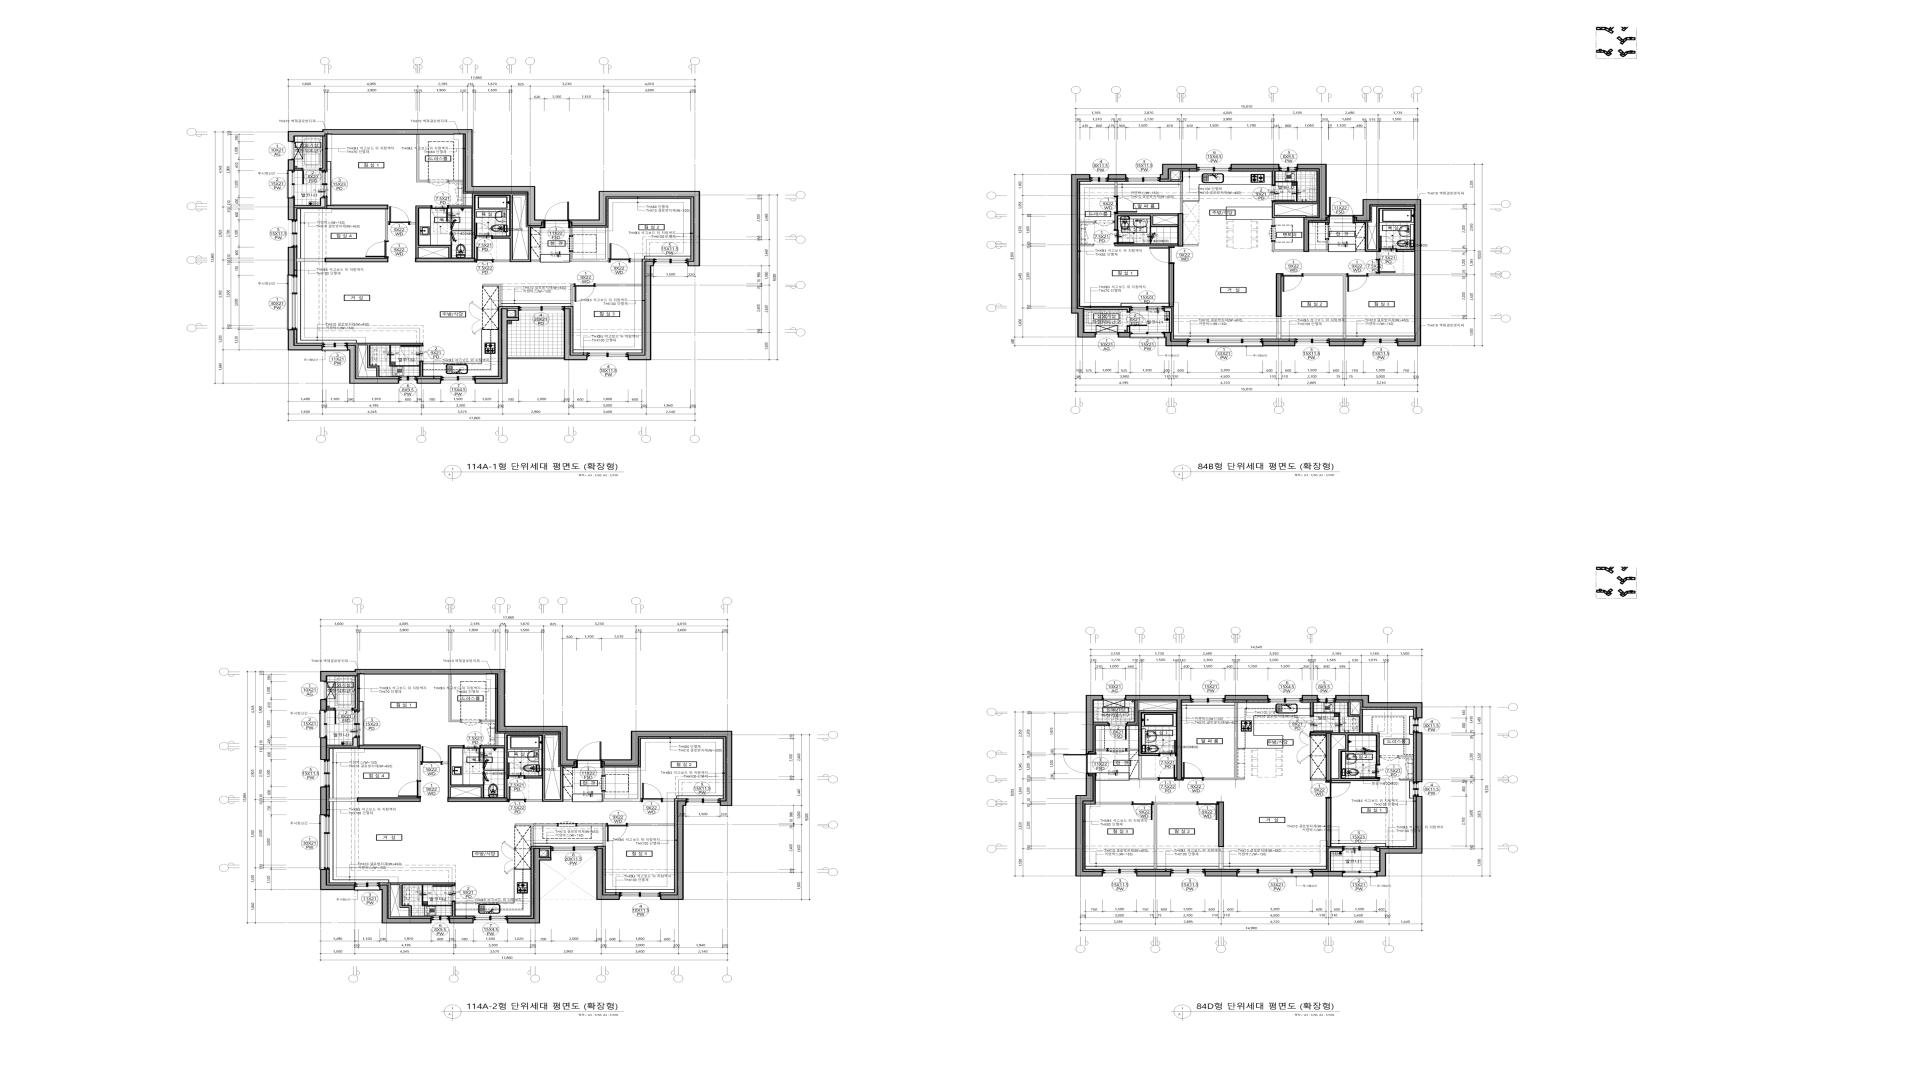door: (1063, 754, 1097, 774), (543, 203, 570, 228), (576, 741, 601, 767), (1329, 196, 1353, 218), (1325, 781, 1350, 799), (608, 243, 630, 262), (1150, 247, 1175, 264), (1182, 762, 1204, 781), (605, 823, 628, 841), (400, 345, 423, 363), (1271, 185, 1295, 202), (388, 207, 409, 225), (574, 284, 595, 302), (1346, 273, 1367, 291), (1282, 273, 1303, 291), (1197, 802, 1218, 820), (1133, 802, 1154, 820), (421, 746, 442, 765), (641, 783, 662, 802), (1114, 196, 1137, 214), (433, 885, 455, 902), (398, 781, 421, 798), (365, 241, 389, 257), (1309, 716, 1333, 732), (1109, 723, 1127, 740), (463, 745, 481, 762), (475, 223, 493, 240), (302, 167, 320, 185), (1126, 311, 1147, 326), (1159, 740, 1176, 757), (508, 762, 525, 779), (475, 247, 493, 262), (1379, 236, 1398, 252), (1158, 765, 1176, 781), (508, 786, 526, 802), (1375, 260, 1395, 274), (1114, 229, 1134, 244), (1360, 765, 1381, 778), (335, 708, 352, 724), (431, 206, 448, 222), (429, 179, 448, 186), (1096, 220, 1114, 227), (1108, 748, 1126, 754), (460, 720, 481, 725), (1269, 225, 1275, 241), (1379, 756, 1399, 761), (558, 822, 576, 827), (1325, 224, 1332, 239)
wall: (320, 669, 576, 766), (287, 129, 543, 225), (1354, 199, 1422, 347), (570, 191, 700, 266), (601, 731, 732, 806), (448, 194, 539, 262), (481, 733, 572, 802), (1125, 695, 1191, 781), (1071, 174, 1096, 338), (1332, 702, 1379, 781), (1377, 796, 1423, 877), (1126, 711, 1176, 781), (506, 848, 551, 923), (475, 309, 520, 384), (1204, 703, 1245, 781), (1357, 207, 1415, 260), (1154, 802, 1197, 869), (1303, 274, 1346, 339), (1298, 164, 1329, 252), (1076, 774, 1102, 877), (659, 800, 686, 901), (628, 261, 654, 360), (409, 206, 452, 257), (442, 745, 484, 798), (359, 343, 423, 377), (390, 882, 455, 916), (1336, 695, 1423, 719), (347, 345, 400, 384), (380, 885, 431, 923), (570, 228, 608, 262), (603, 767, 641, 802), (596, 848, 620, 901), (564, 309, 588, 360), (1085, 695, 1104, 754), (1273, 202, 1317, 225), (1114, 214, 1178, 229), (514, 824, 558, 847), (320, 869, 355, 890), (287, 330, 322, 351), (576, 824, 605, 847), (1160, 164, 1197, 179), (448, 674, 460, 723), (417, 135, 429, 182), (1171, 170, 1183, 214), (483, 284, 501, 306), (1328, 848, 1342, 872), (1164, 332, 1188, 347), (1416, 732, 1423, 782), (326, 204, 388, 210), (1325, 732, 1332, 781), (327, 737, 357, 748), (1273, 241, 1303, 252), (1325, 799, 1332, 847), (415, 257, 475, 262), (1168, 264, 1175, 307), (294, 198, 324, 207), (1230, 164, 1279, 169), (357, 798, 421, 802), (324, 258, 388, 262), (359, 745, 421, 749), (1309, 239, 1328, 252), (447, 798, 508, 802), (1218, 802, 1224, 847), (1225, 695, 1269, 700), (1276, 273, 1282, 316), (508, 356, 563, 360), (1127, 700, 1137, 724), (1164, 307, 1172, 332), (320, 786, 327, 815), (287, 247, 294, 276), (1084, 307, 1130, 311), (352, 676, 357, 711), (1137, 872, 1171, 877), (1329, 342, 1364, 347), (1205, 872, 1238, 877), (1178, 214, 1183, 247), (1262, 342, 1295, 347), (320, 137, 326, 170), (1114, 244, 1178, 247), (1312, 872, 1342, 877), (320, 737, 327, 760), (287, 198, 294, 220), (448, 918, 473, 923), (417, 378, 442, 384), (595, 284, 642, 286), (1218, 847, 1224, 869), (1276, 316, 1282, 339), (328, 798, 357, 802), (297, 258, 324, 262), (508, 309, 518, 318), (541, 848, 551, 857), (1108, 174, 1126, 179), (1096, 802, 1131, 804), (418, 749, 421, 781), (1302, 695, 1317, 700), (385, 210, 388, 241), (320, 699, 327, 711), (287, 160, 294, 171), (451, 902, 456, 916), (1367, 274, 1415, 276), (1118, 332, 1130, 338), (628, 824, 674, 825), (571, 284, 574, 306), (419, 363, 423, 377), (1311, 732, 1325, 736), (630, 258, 642, 262), (1398, 249, 1415, 252), (1093, 721, 1109, 724), (1273, 170, 1275, 185), (481, 720, 496, 723), (1311, 702, 1313, 716), (1114, 182, 1117, 196), (496, 733, 498, 745), (662, 799, 674, 802), (1126, 326, 1130, 332), (295, 167, 302, 171), (603, 767, 605, 775), (570, 228, 572, 236), (1399, 756, 1414, 757), (1399, 779, 1414, 781), (1311, 779, 1325, 781), (1080, 222, 1095, 223), (448, 181, 463, 182), (327, 708, 334, 711), (1080, 245, 1093, 247), (1096, 749, 1108, 750), (1377, 848, 1379, 852), (1325, 223, 1329, 224)
window: (286, 276, 298, 330), (1238, 869, 1312, 877), (319, 815, 330, 869), (1188, 339, 1262, 344), (518, 306, 564, 314), (587, 352, 628, 360), (620, 891, 659, 899), (551, 847, 596, 853), (1126, 174, 1160, 182), (686, 798, 720, 806), (1191, 695, 1225, 703), (442, 376, 475, 384), (473, 915, 506, 923), (1269, 695, 1302, 703), (654, 258, 687, 266), (289, 220, 298, 247), (286, 171, 295, 198), (320, 760, 330, 786), (355, 882, 380, 891), (1364, 339, 1398, 345), (1295, 339, 1329, 345), (1130, 332, 1164, 339), (1171, 869, 1205, 876), (1342, 870, 1377, 877), (1102, 869, 1137, 876), (1197, 165, 1230, 171), (319, 711, 327, 737), (352, 711, 360, 737), (1188, 344, 1262, 347), (323, 343, 347, 351), (1130, 306, 1164, 311), (320, 171, 327, 198), (1317, 695, 1336, 703), (400, 376, 417, 384), (1091, 174, 1108, 182), (1342, 847, 1377, 851), (431, 915, 448, 923), (1412, 782, 1422, 796), (1279, 165, 1298, 171), (1412, 719, 1422, 732), (1096, 332, 1118, 338), (320, 682, 327, 699), (1104, 695, 1125, 700), (289, 142, 294, 160)
